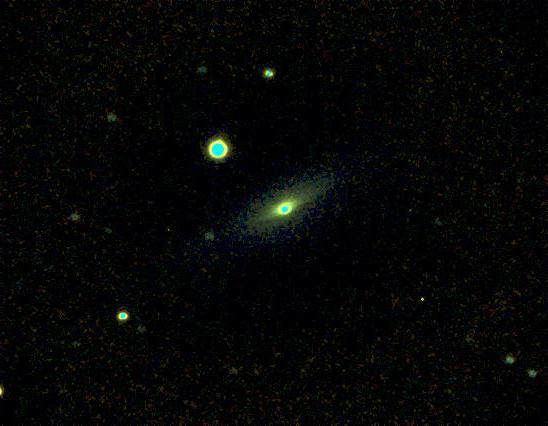star: (410, 290, 440, 320)
